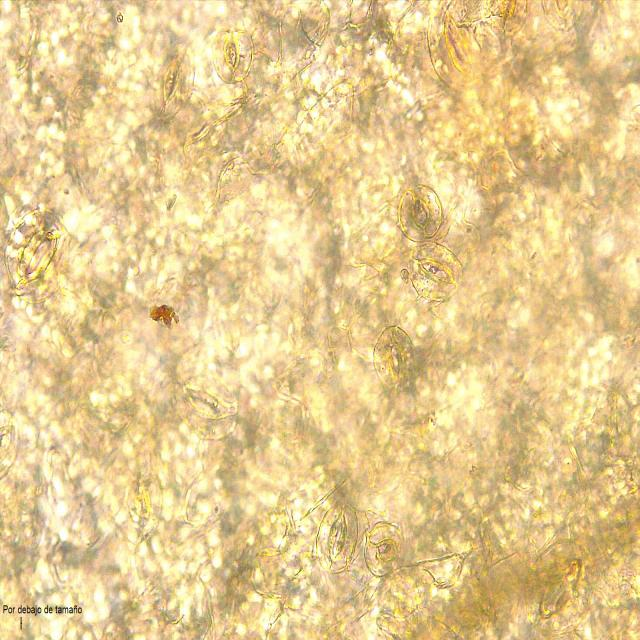Stomata: (523, 538, 598, 639), (1, 206, 72, 307), (168, 366, 240, 442), (148, 37, 196, 125), (315, 499, 361, 577), (408, 240, 464, 304), (372, 324, 419, 395), (394, 181, 446, 243), (209, 25, 256, 86), (362, 519, 408, 579), (0, 409, 24, 487), (540, 0, 588, 33)
